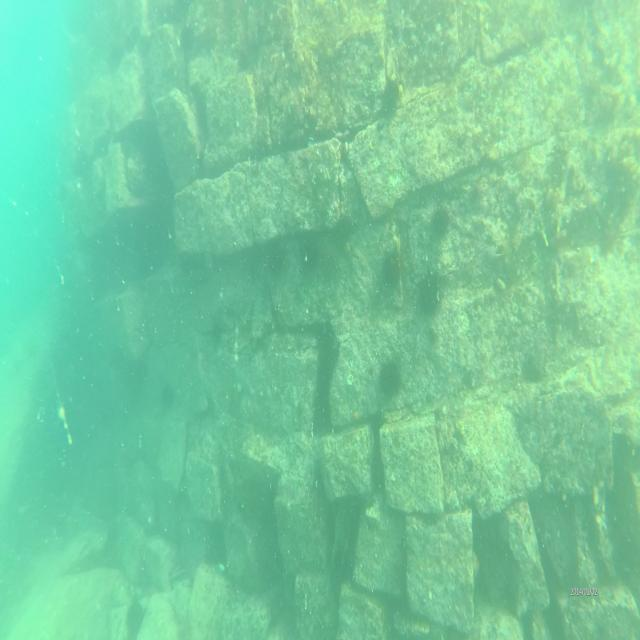echinus: (421, 268, 443, 316), (379, 354, 403, 395), (429, 205, 451, 244), (125, 599, 148, 636), (378, 81, 401, 117), (382, 249, 403, 288), (268, 243, 289, 278), (299, 242, 319, 274), (318, 319, 337, 352), (161, 382, 177, 409)
